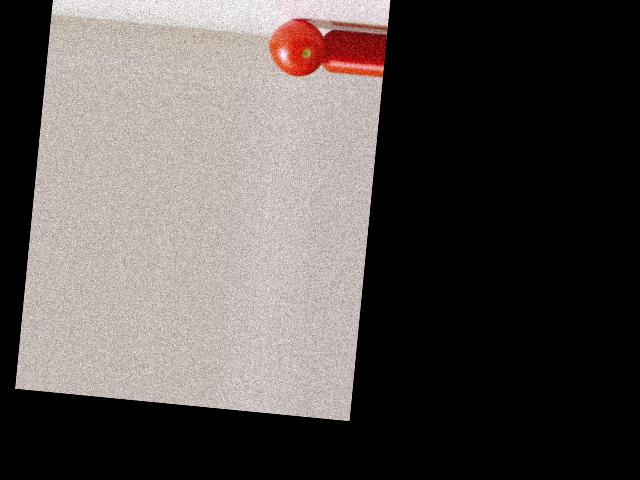tomato: (266, 17, 327, 78)
